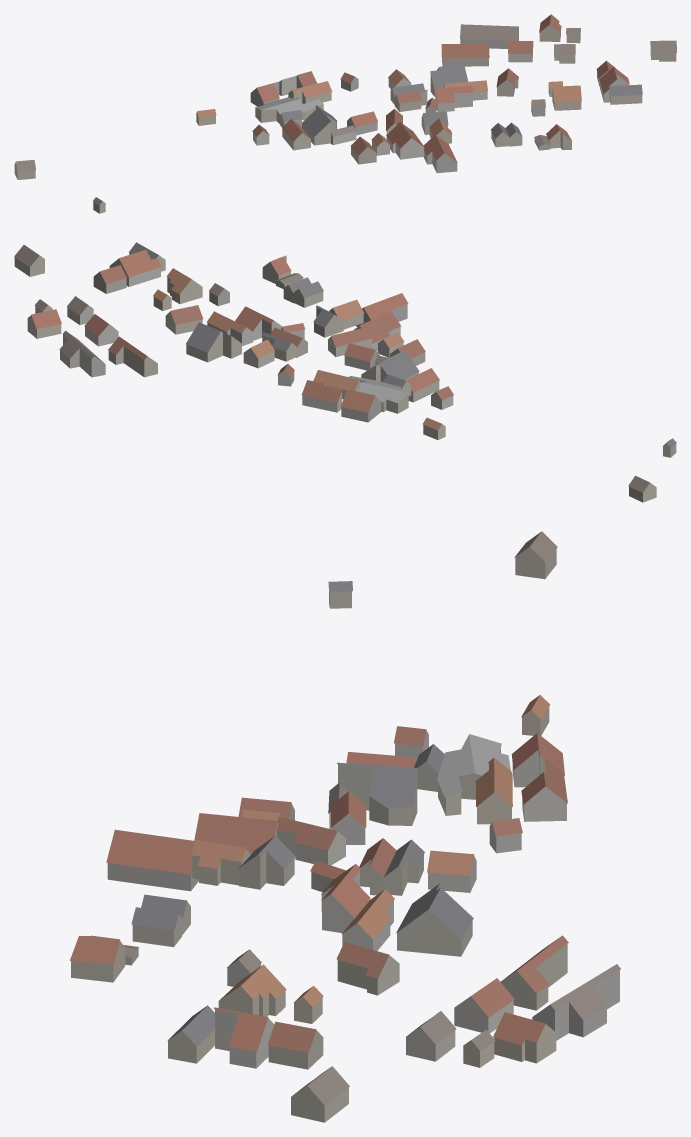
3 renders of one model, top to bottom at view 1: azimuth 30°, elevation 25°; view 2: azimuth 150°, elevation 25°; view 3: azimuth 270°, elevation 25°, orthographic. The views are drawn at different scales.
Visible parts, largest first — view 1: buildings; view 2: buildings; view 3: buildings.
Part boxes in pixels (<box>): buildings: <box>14,14,676,213</box>; buildings: <box>14,242,676,502</box>; buildings: <box>70,531,620,1122</box>.
Bounding box in the file's own units: 430 × 25.75 × 169.
